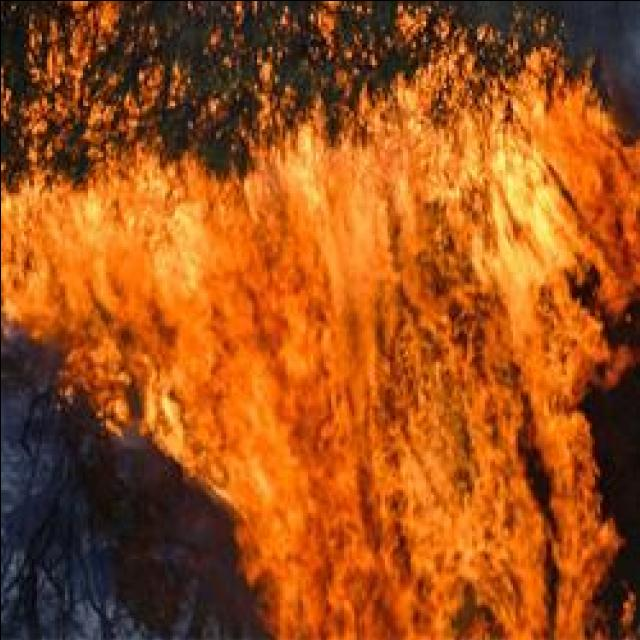fire: (81, 191, 419, 396), (384, 90, 640, 342), (276, 358, 490, 628), (474, 320, 620, 638), (182, 336, 302, 504), (0, 195, 97, 341)
